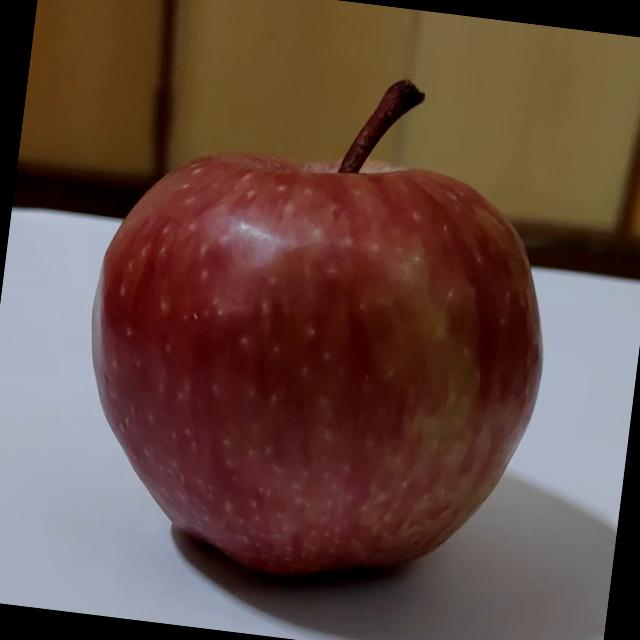apple: (57, 42, 579, 611)
